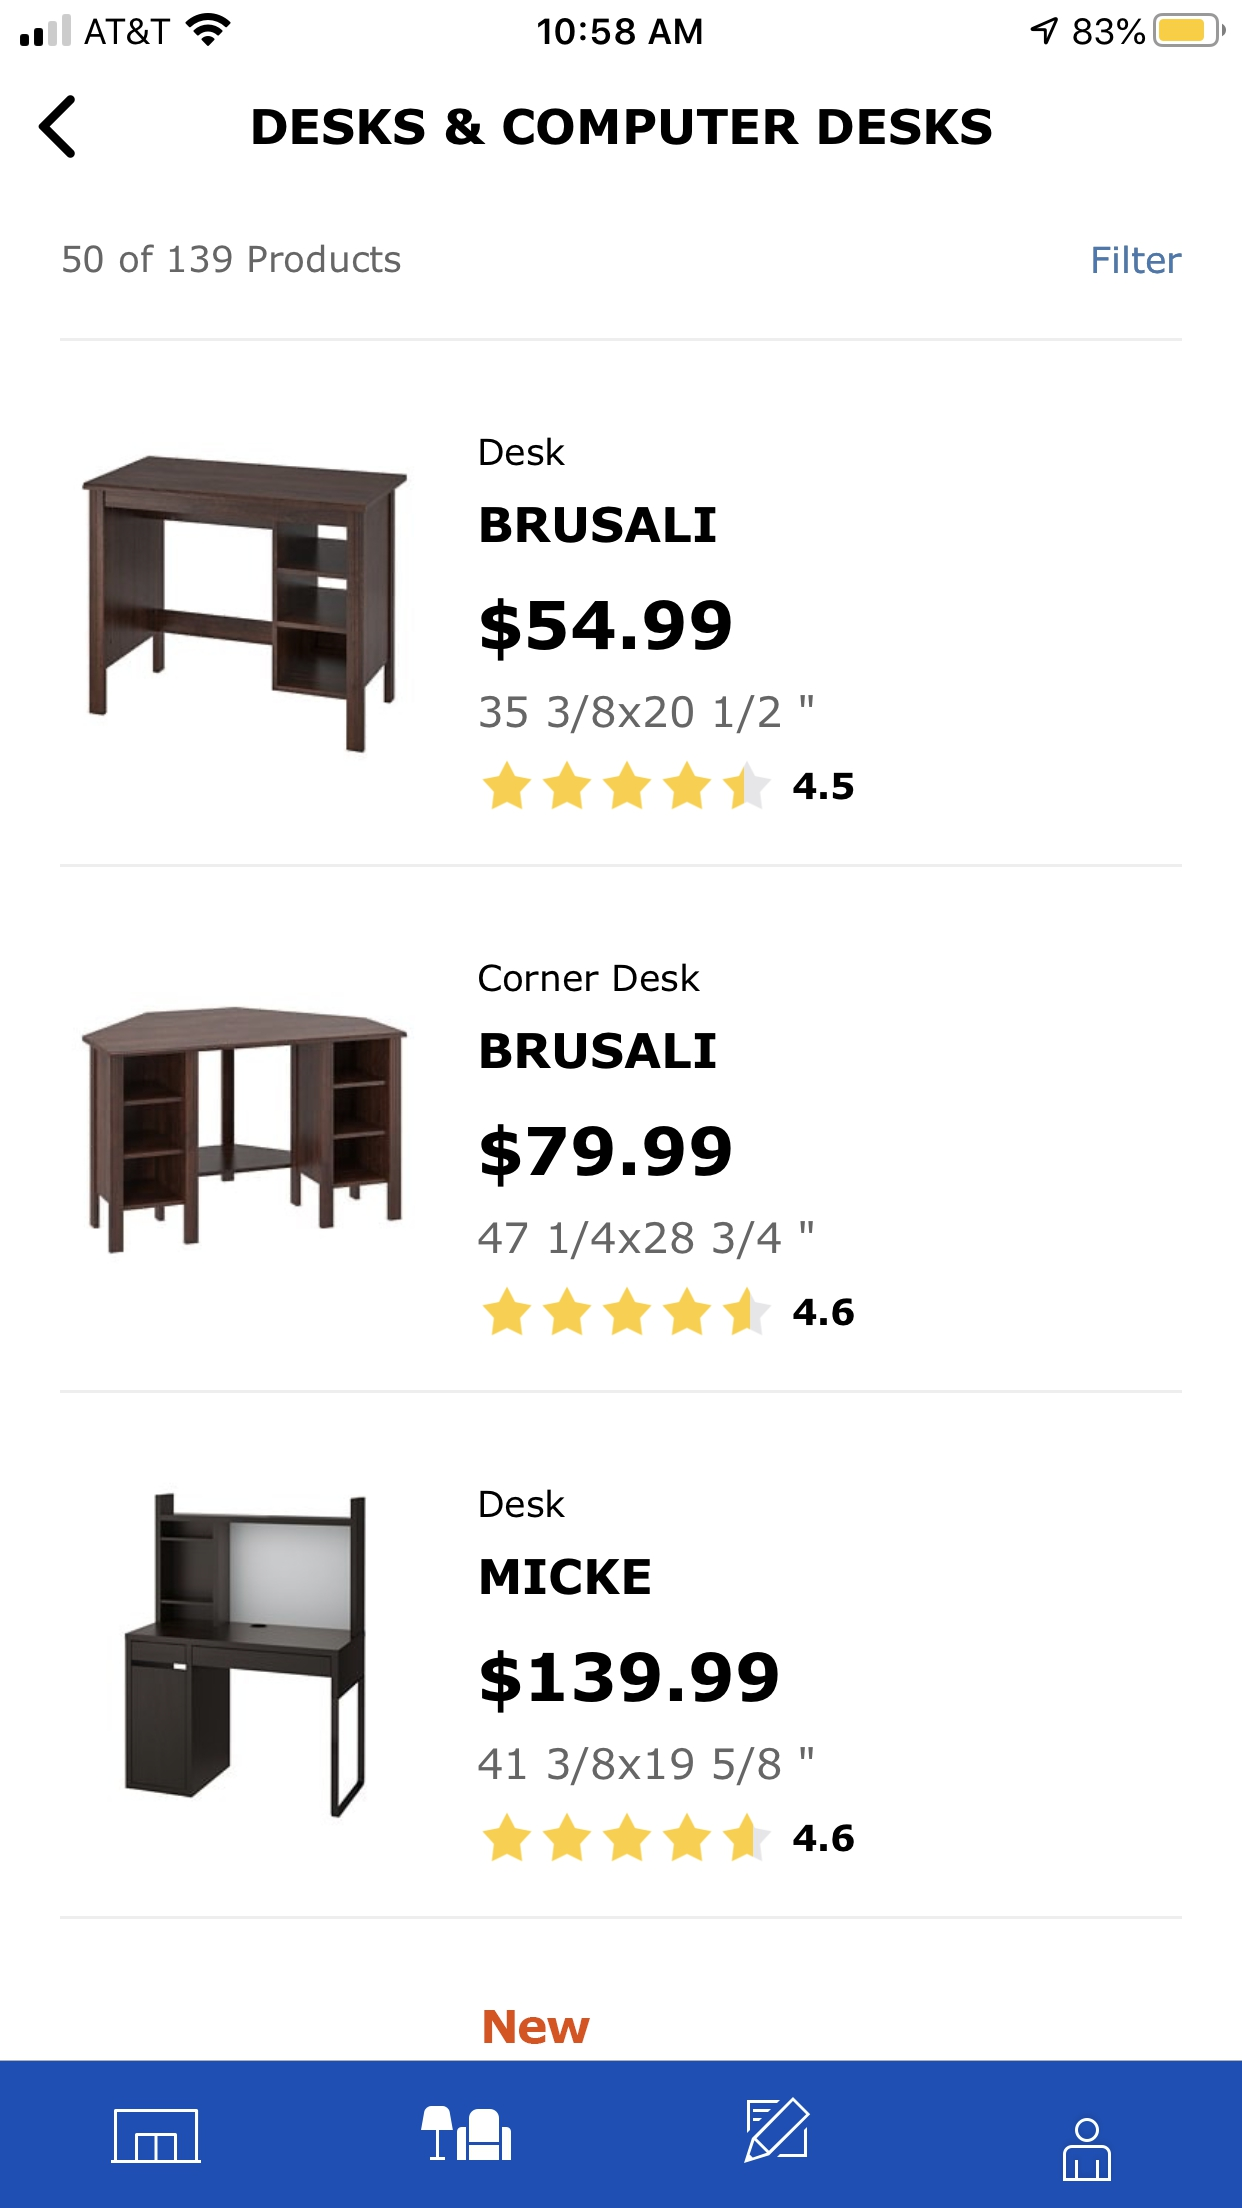Icon: (482, 1812, 772, 1862), (482, 1286, 772, 1336), (482, 761, 772, 811), (743, 2096, 811, 2164), (1062, 2117, 1112, 2182), (39, 96, 77, 161)
Image: (80, 455, 409, 755), (80, 1005, 409, 1256), (124, 1492, 369, 1818), (420, 2105, 513, 2161), (111, 2108, 202, 2164)
Text: (253, 108, 992, 146), (481, 1648, 779, 1714), (481, 597, 732, 663), (481, 1124, 732, 1187), (478, 1221, 814, 1262), (481, 695, 814, 735), (478, 1747, 814, 1786), (62, 244, 400, 274), (481, 507, 717, 544), (481, 1033, 717, 1071), (481, 1557, 651, 1595), (479, 964, 701, 993), (484, 2009, 591, 2046), (1092, 246, 1183, 274), (481, 437, 566, 467), (481, 1489, 566, 1520), (792, 1824, 855, 1853), (793, 772, 854, 801)
UpperTaskBar: (2, 2, 1242, 49)
